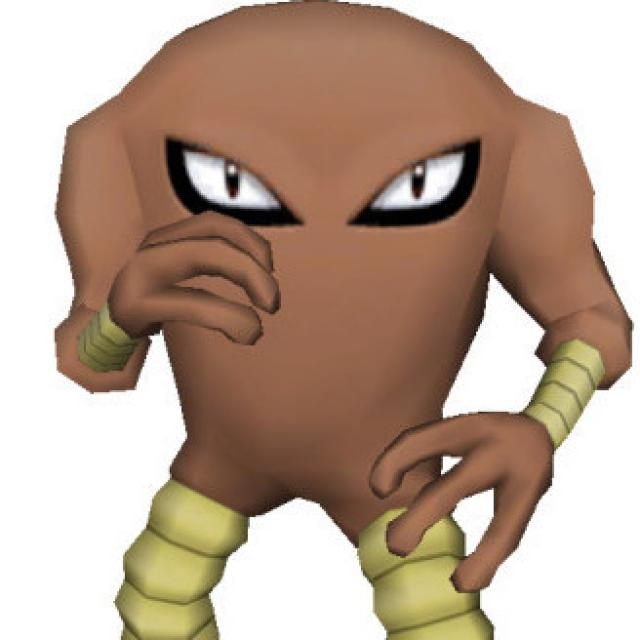Hitmonlee: (56, 5, 634, 640)
